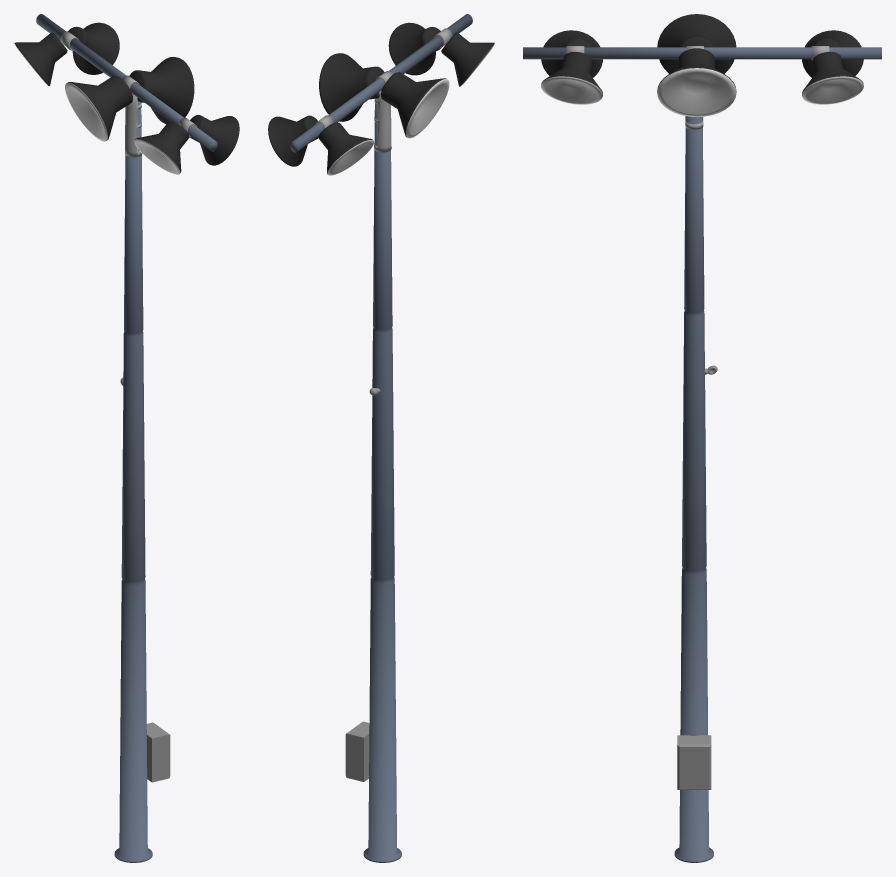
File: SkiLights.fbx
3 renders of one model, left to right at view 1: azimuth 30°, elevation 25°; view 2: azimuth 150°, elevation 25°; view 3: azimuth 270°, elevation 25°, orthographic. The views are drawn at different scales.
Visible parts, largest first — view 1: SkiLight; view 2: SkiLight; view 3: SkiLight.
Part boxes in pixels (<box>): SkiLight: <box>14,14,239,862</box>; SkiLight: <box>268,14,494,862</box>; SkiLight: <box>523,14,881,862</box>.
Size of the model in its own units: 1174 by 2932 by 418.
